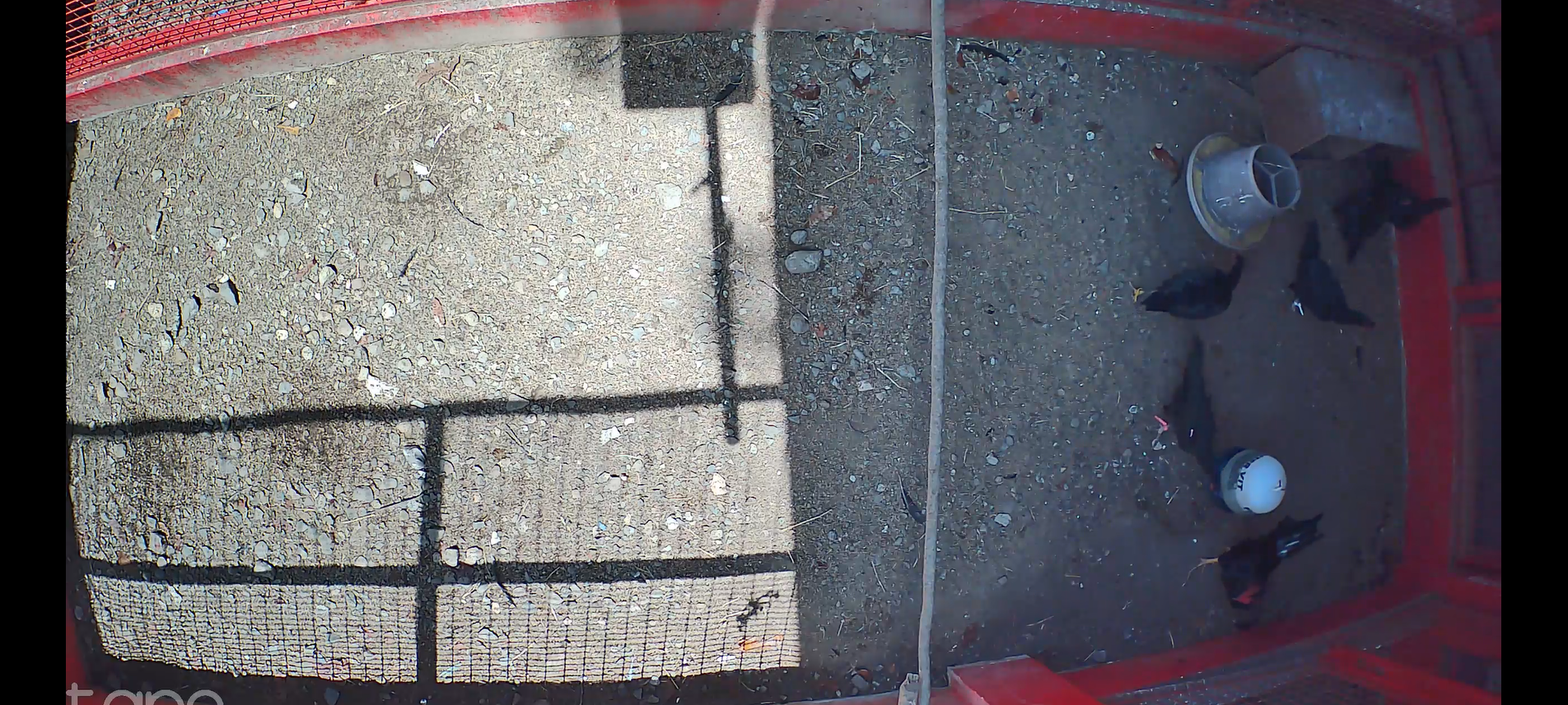Chicken: (1142, 332, 1221, 492), (1279, 217, 1380, 334), (1128, 252, 1247, 319), (1369, 154, 1453, 245), (1335, 180, 1401, 269)
Drinker: (1206, 446, 1287, 516)
Feeder: (1187, 130, 1303, 251)
Rooster: (1184, 508, 1326, 613)
